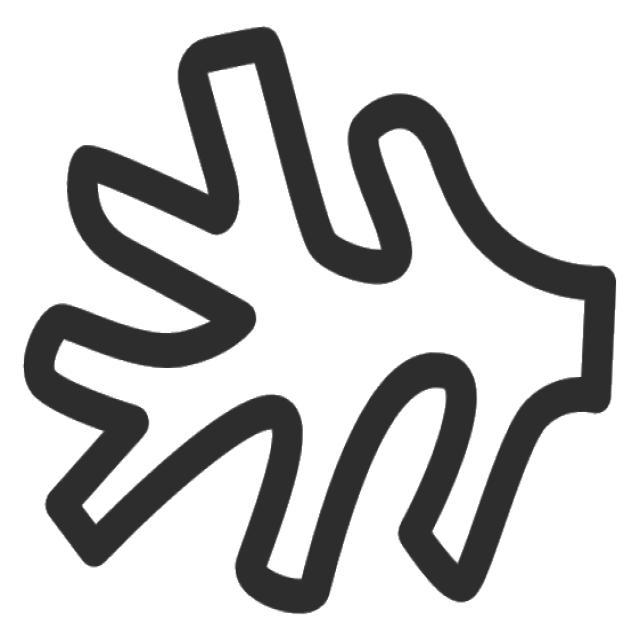coral: (15, 23, 628, 630)
